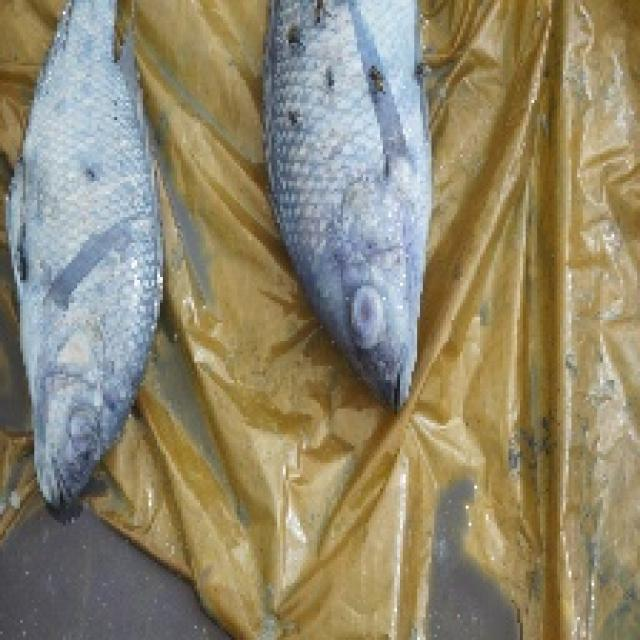Non-Fresh: (251, 36, 473, 426), (4, 65, 196, 509)
